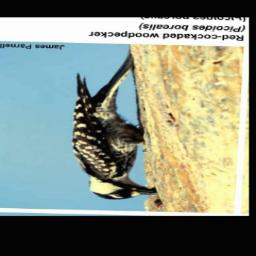Woodpecker: (62, 52, 170, 201)
